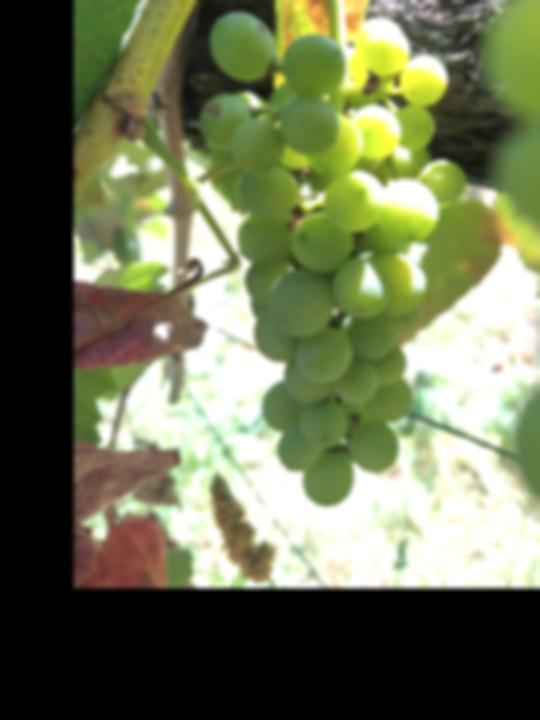grape: (196, 7, 469, 509)
